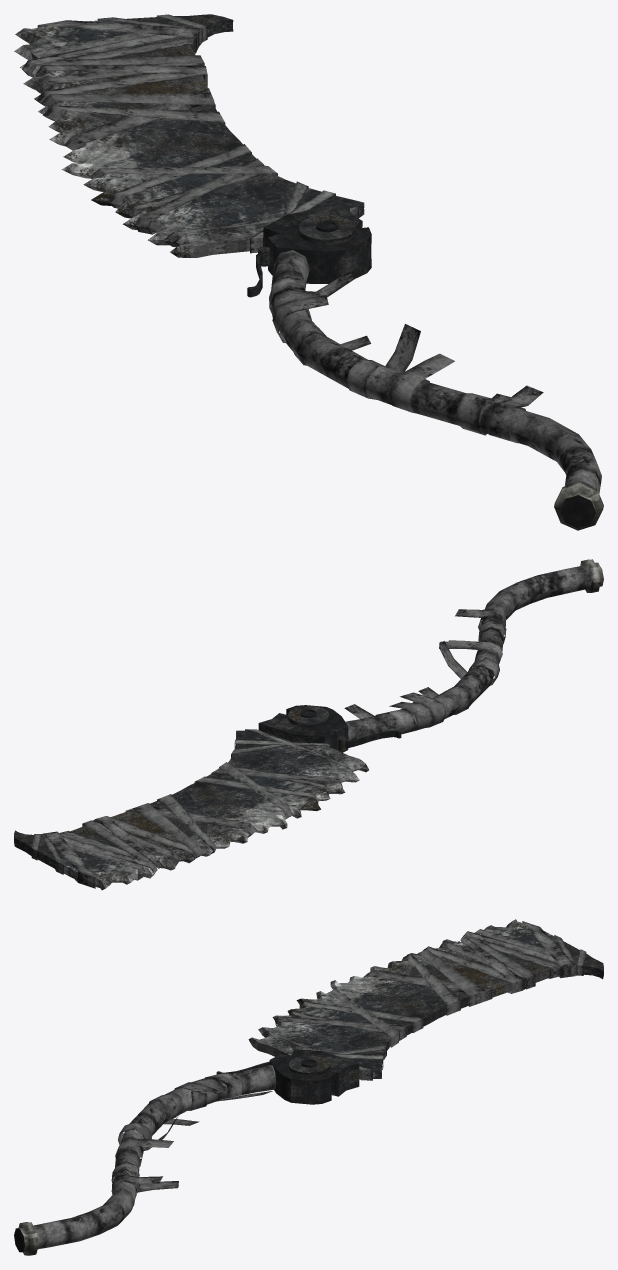
Rendered from bloodsaw.obj.
3 views of the same model, one above another, from view 1: azimuth 30°, elevation 25°; view 2: azimuth 150°, elevation 25°; view 3: azimuth 330°, elevation 25° (orthographic). The views are drawn at different scales.
Parts seen in each view (by area): view 1: Model001_24_Mesh2_0_0_0, Model001_24_Mesh1_0_0_0_root_root; view 2: Model001_24_Mesh2_0_0_0, Model001_24_Mesh1_0_0_0_root_root; view 3: Model001_24_Mesh2_0_0_0, Model001_24_Mesh1_0_0_0_root_root.
Part boxes in pixels (x1,y1,x2,y2): Model001_24_Mesh2_0_0_0: [22, 14, 601, 493]; Model001_24_Mesh1_0_0_0_root_root: [14, 14, 603, 530]; Model001_24_Mesh2_0_0_0: [31, 565, 591, 888]; Model001_24_Mesh1_0_0_0_root_root: [14, 559, 603, 890]; Model001_24_Mesh2_0_0_0: [33, 921, 586, 1249]; Model001_24_Mesh1_0_0_0_root_root: [14, 919, 603, 1255].
Size of the model in its own units: 0.6584 by 0.1304 by 2.51.
